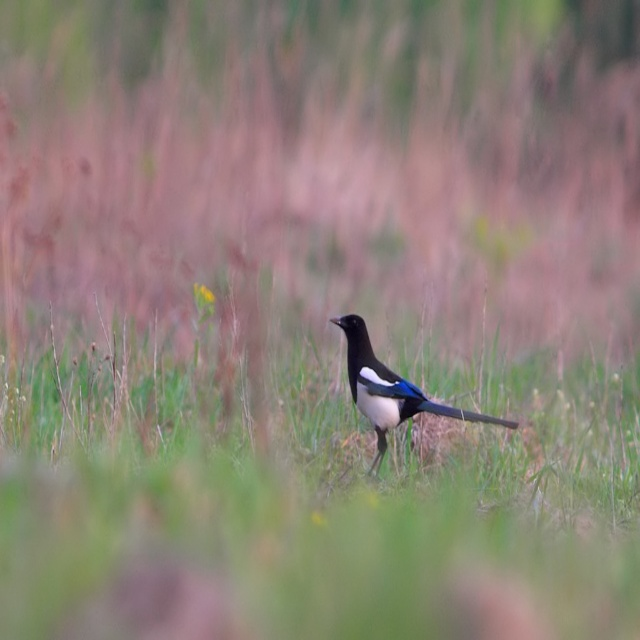Magpie: (330, 314, 519, 481)
